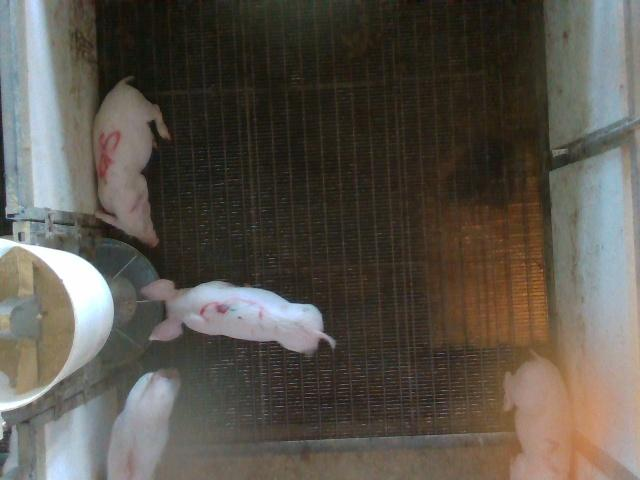pig-1: (108, 369, 180, 478)
pig-2: (504, 351, 571, 478)
pig-3: (141, 279, 335, 354)
pig-5: (94, 76, 170, 246)
